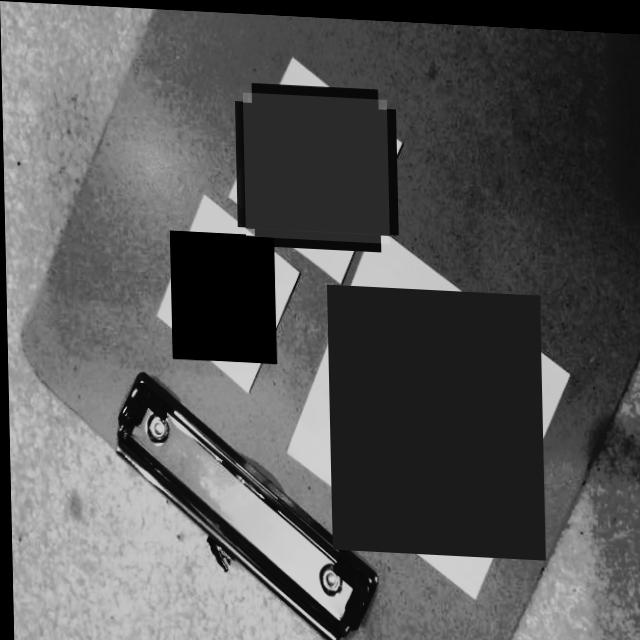qr_code: (326, 280, 543, 554), (242, 88, 389, 238), (169, 228, 275, 360)
